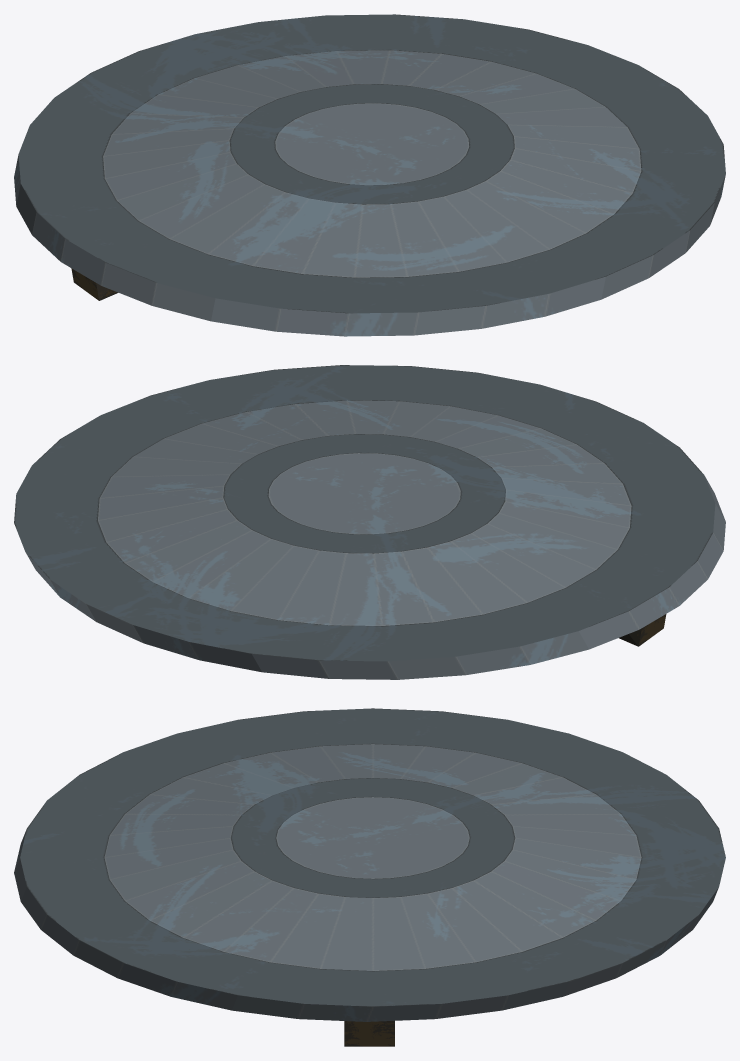
Rendered from Escudo.fbx.
3 renders of one model, top to bottom at view 1: azimuth 30°, elevation 25°; view 2: azimuth 150°, elevation 25°; view 3: azimuth 270°, elevation 25°, orthographic.
Visible parts, largest first — view 1: Escudo; view 2: Escudo; view 3: Escudo.
Boxes of the visible parts, <box> form: Escudo: <box>14,14,725,336</box>; Escudo: <box>14,365,725,679</box>; Escudo: <box>14,708,725,1046</box>.
Size of the model in its own units: 100 by 14.05 by 99.63.
Materials: 4 (4 with a texture image).
